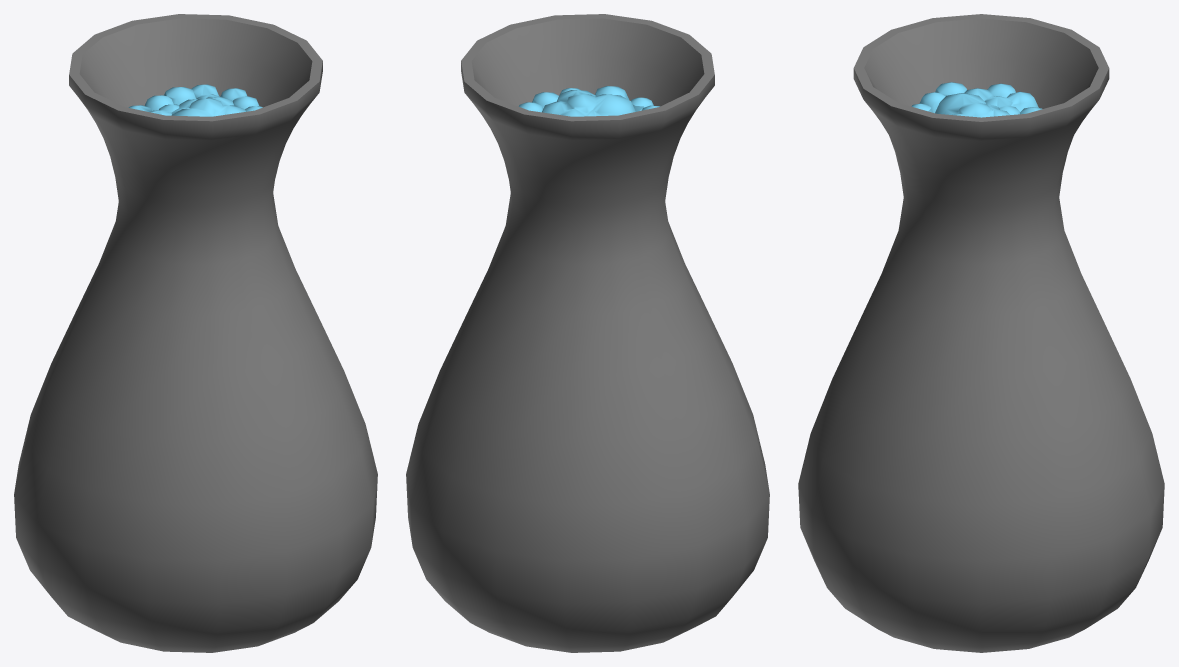
File: Vase+Berries.FBX
3 renders of one model, left to right at view 1: azimuth 30°, elevation 25°; view 2: azimuth 150°, elevation 25°; view 3: azimuth 270°, elevation 25°, orthographic.
Parts seen in each view (by area): view 1: Vase, Berries; view 2: Vase, Berries; view 3: Vase, Berries.
Part boxes in pixels (x1,y1,x2,y2): Vase: [14, 14, 377, 652]; Berries: [128, 84, 262, 116]; Vase: [406, 14, 769, 652]; Berries: [519, 86, 659, 116]; Vase: [798, 14, 1164, 652]; Berries: [911, 82, 1042, 117].
Bounding box in the file's own units: 34.9 × 57.67 × 34.9.
